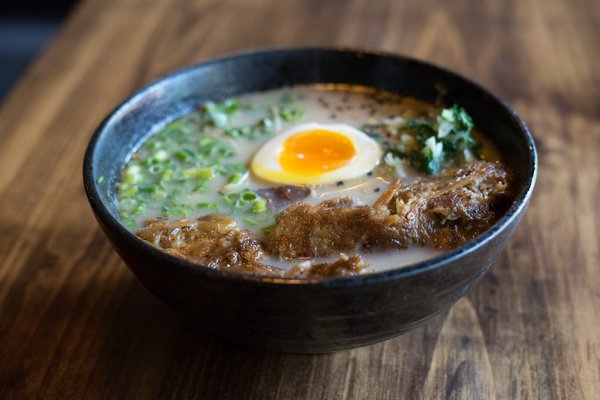sushi: (89, 34, 537, 358)
